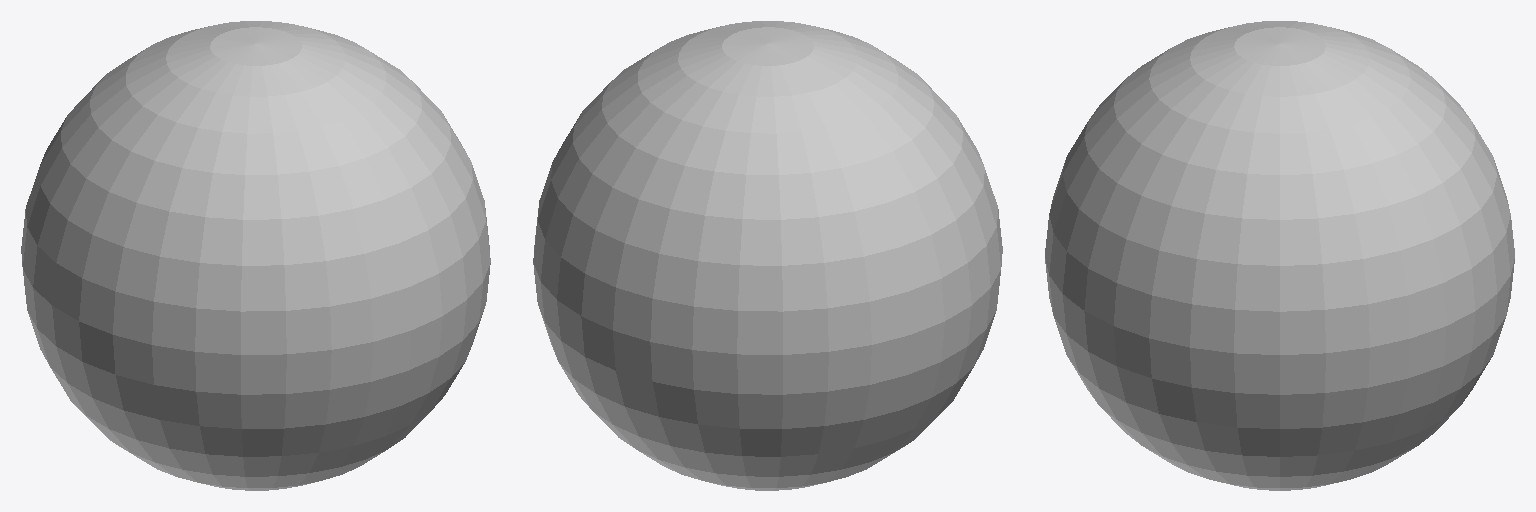
File: earth2.obj
The picture shows the model from 3 angles: view 1: azimuth 30°, elevation 25°; view 2: azimuth 150°, elevation 25°; view 3: azimuth 270°, elevation 25°; orthographic projection.
Visible parts, largest first — view 1: Sphere.008; view 2: Sphere.008; view 3: Sphere.008.
Boxes of the visible parts, <box> form: Sphere.008: <box>21,21,490,490</box>; Sphere.008: <box>533,21,1002,490</box>; Sphere.008: <box>1045,21,1514,490</box>.
Size of the model in its own units: 6.28 by 6.26 by 6.28.